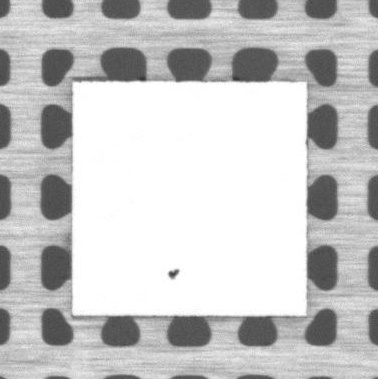DIE_INK: (168, 268, 179, 281)
